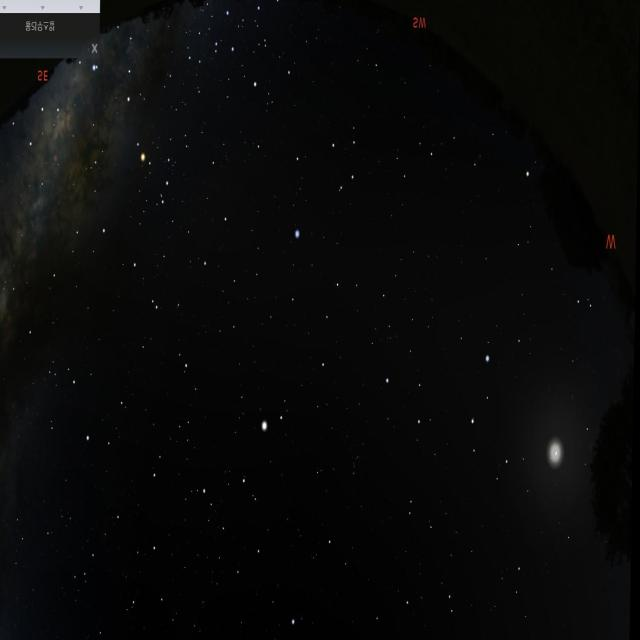bootes: (213, 410, 280, 581)
leo: (380, 341, 504, 490)
moon: (540, 392, 595, 494)
scorpius: (107, 41, 183, 213)
